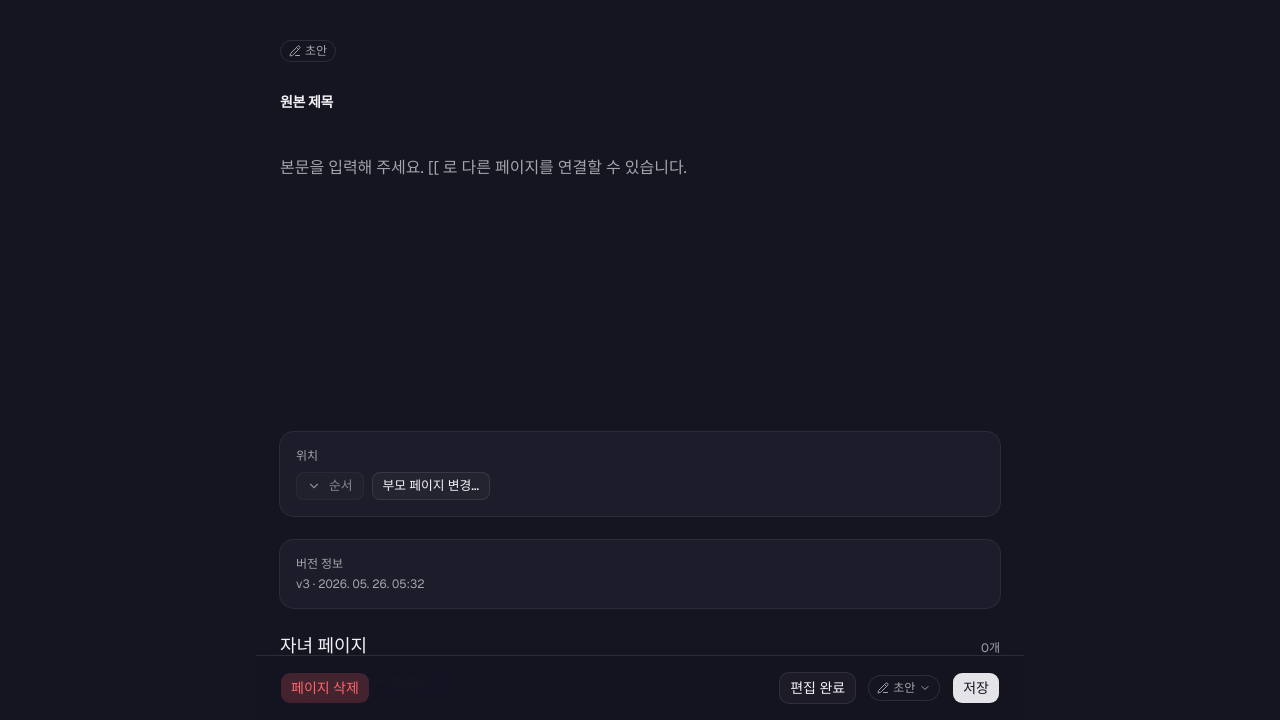
Test: PageEditView — visibility chip › footer popover 에서 visibility 를 바꾸면 상단 chip 이 즉시 갱신된다
The width and height of the screenshot is (1280, 720).
Expected: the field showing "원본 제목" is shown, [280, 88, 1000, 116]
Expected: the element named "공개 범위: 초안" is shown, [280, 40, 336, 62]
Step 1. Click the button with aria-label "공개 범위 변경" → point(904, 688), box [868, 675, 940, 701]
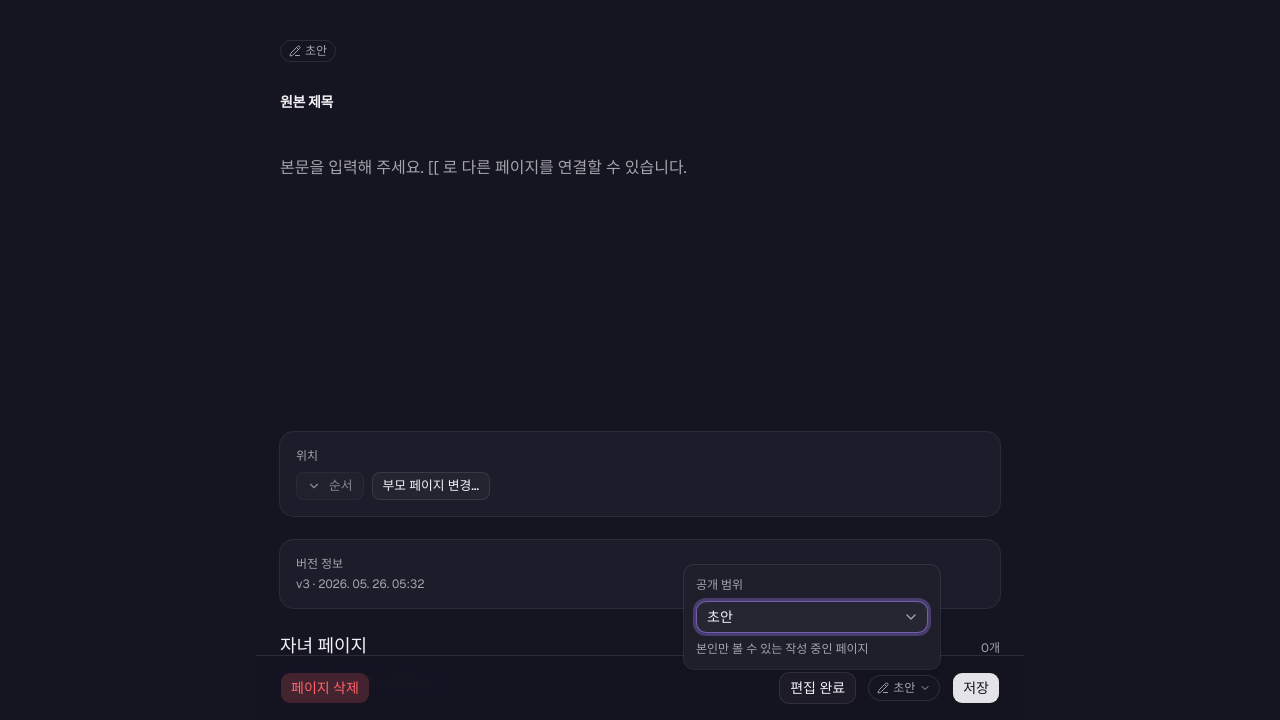
Step 2. Click the dropdown named "공개 범위" → point(812, 617), box [696, 601, 928, 633]
(page scrolled)
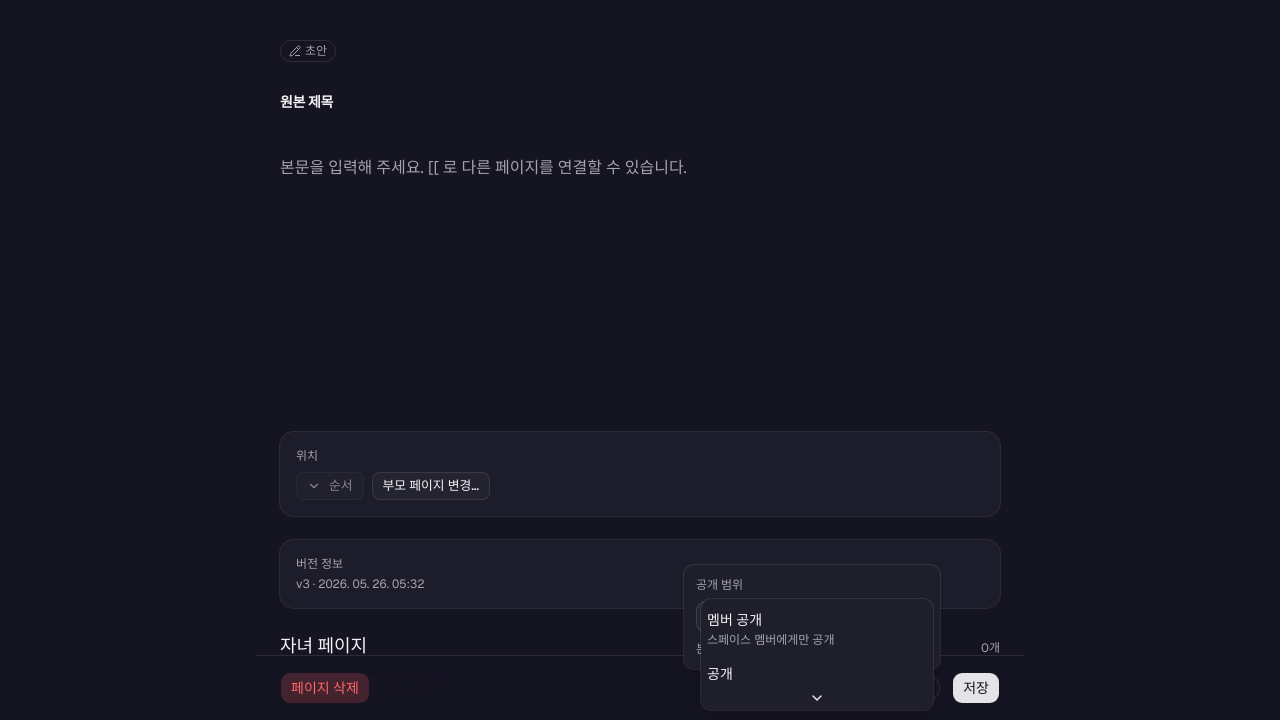
Step 3. Click the option "공개 누구나 볼 수 있는 공개 페이지" → point(781, 684), box [707, 665, 854, 702]
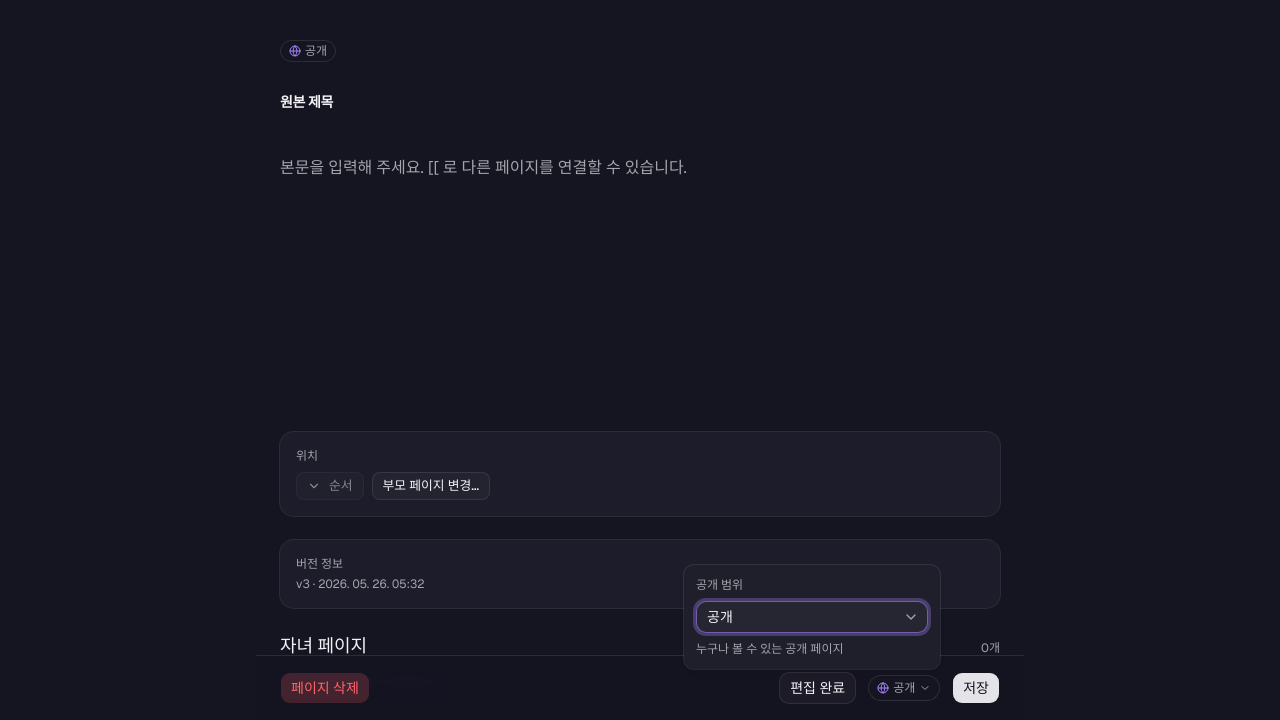
Result: the element named "공개 범위: 공개" is shown at [280, 40, 336, 62]
